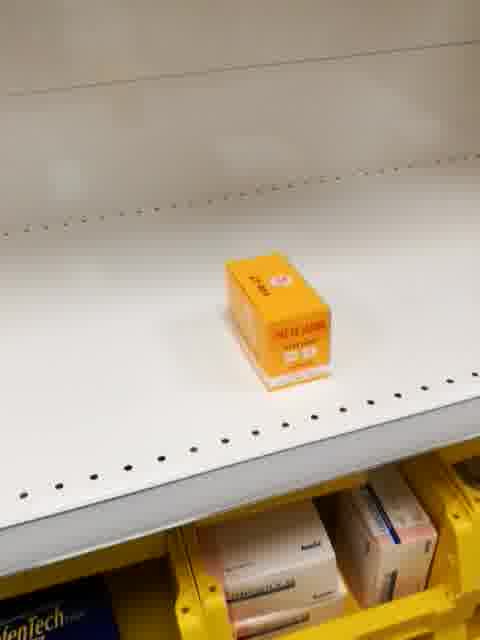jasminetea: (225, 251, 334, 393)
